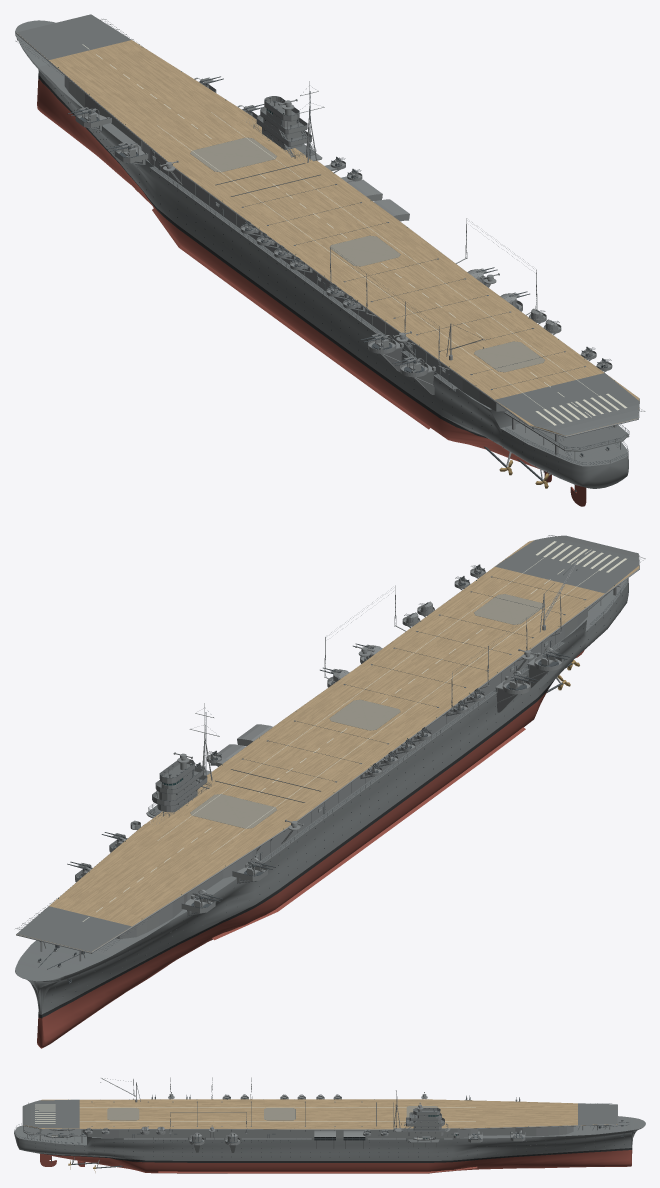
File: shokaku.glb
3 views of the same model, one above another, from view 1: azimuth 30°, elevation 25°; view 2: azimuth 150°, elevation 25°; view 3: azimuth 270°, elevation 25° (orthographic). The views are drawn at different scales.
Parts seen in each view (by area): view 1: flight-deck.mesh, Blueprint lofted hull, upper-hangar.mesh, hangars.mesh, armament.mesh, island.mesh, elevator-forward.lift.mesh, fittings.mesh, underwater.mesh, stern-boat-deck.mesh, elevator-middle.lift.mesh, elevator-aft.lift.mesh; view 2: flight-deck.mesh, Blueprint lofted hull, upper-hangar.mesh, hangars.mesh, armament.mesh, island.mesh, elevator-forward.lift.mesh, fittings.mesh, underwater.mesh, elevator-middle.lift.mesh, elevator-aft.lift.mesh; view 3: Blueprint lofted hull, flight-deck.mesh, upper-hangar.mesh, hangars.mesh, island.mesh, underwater.mesh, armament.mesh, fittings.mesh, elevator-aft.lift.mesh, elevator-middle.lift.mesh, stern-boat-deck.mesh, hull.mesh (+1 smaller).
Part boxes in pixels (box(x1,y1,x2,y2)): flight-deck.mesh: box(16, 14, 639, 435); Blueprint lofted hull: box(15, 20, 628, 488); upper-hangar.mesh: box(64, 76, 506, 411); hangars.mesh: box(16, 33, 639, 460); armament.mesh: box(75, 84, 612, 394); island.mesh: box(159, 81, 537, 369); elevator-forward.lift.mesh: box(190, 137, 276, 172); fittings.mesh: box(15, 19, 645, 464); underwater.mesh: box(152, 208, 550, 480); stern-boat-deck.mesh: box(504, 411, 628, 451); elevator-middle.lift.mesh: box(329, 235, 400, 266); elevator-aft.lift.mesh: box(474, 341, 544, 372); flight-deck.mesh: box(17, 535, 639, 952); Blueprint lofted hull: box(15, 578, 628, 1048); upper-hangar.mesh: box(116, 608, 587, 939); hangars.mesh: box(16, 553, 639, 961); armament.mesh: box(75, 568, 562, 916); island.mesh: box(130, 588, 561, 843); elevator-forward.lift.mesh: box(190, 794, 276, 828); fittings.mesh: box(15, 535, 645, 983); underwater.mesh: box(212, 662, 572, 940); elevator-middle.lift.mesh: box(329, 699, 400, 730); elevator-aft.lift.mesh: box(474, 594, 543, 624); Blueprint lofted hull: box(14, 1116, 645, 1173); flight-deck.mesh: box(23, 1099, 617, 1129); upper-hangar.mesh: box(82, 1126, 573, 1138); hangars.mesh: box(22, 1082, 617, 1143); island.mesh: box(133, 1090, 458, 1148); underwater.mesh: box(71, 1157, 477, 1173); armament.mesh: box(84, 1096, 525, 1152); fittings.mesh: box(14, 1078, 628, 1144); elevator-aft.lift.mesh: box(107, 1108, 139, 1120); elevator-middle.lift.mesh: box(264, 1108, 295, 1120); stern-boat-deck.mesh: box(23, 1126, 86, 1136); hull.mesh: box(35, 1137, 624, 1157).
Bounding box in the file's own units: 44.58 × 42.77 × 258.
21 materials, 16 textured.
